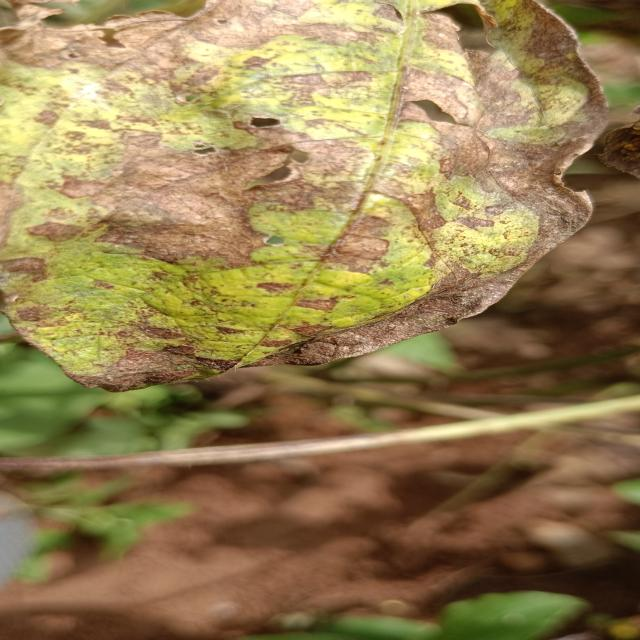Black gram_leaf spot: (0, 0, 623, 404)
